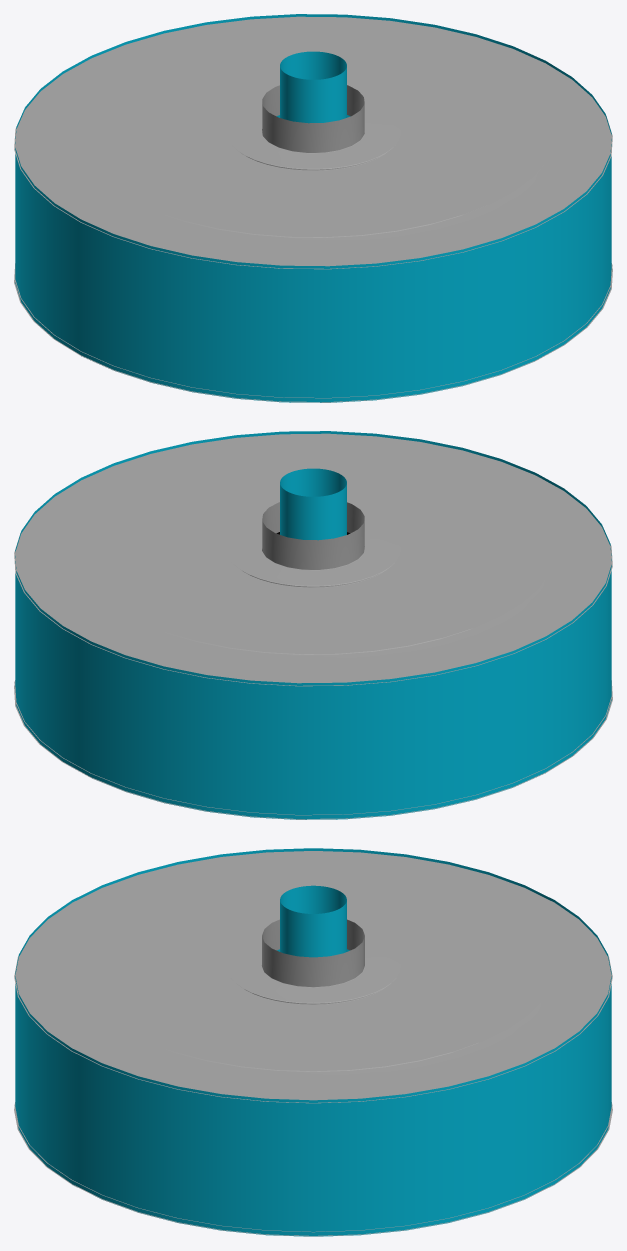
File: env_UV_ready_v04.fbx
3 renders of one model, top to bottom at view 1: azimuth 30°, elevation 25°; view 2: azimuth 150°, elevation 25°; view 3: azimuth 270°, elevation 25°, orthographic.
Visible parts, largest first — view 1: wall, celling_c, celling_b, celling_a, celling_d, center, floor, light_floor; view 2: wall, celling_c, celling_b, celling_a, celling_d, center, floor, light_floor; view 3: wall, celling_c, celling_b, celling_a, celling_d, center, floor, light_floor.
Boxes of the visible parts, x1,y1,x2,y2 form: wall: [15, 14, 611, 402]; celling_c: [73, 33, 553, 236]; celling_b: [34, 21, 592, 257]; celling_a: [14, 16, 612, 269]; celling_d: [225, 85, 401, 168]; center: [280, 51, 346, 123]; floor: [14, 263, 612, 402]; light_floor: [14, 263, 612, 398]; wall: [15, 431, 611, 819]; celling_c: [73, 450, 553, 653]; celling_b: [34, 438, 592, 674]; celling_a: [14, 433, 612, 686]; celling_d: [225, 502, 401, 585]; center: [280, 468, 346, 540]; floor: [14, 680, 612, 819]; light_floor: [14, 680, 612, 815]; wall: [15, 848, 611, 1236]; celling_c: [73, 867, 553, 1070]; celling_b: [34, 855, 592, 1091]; celling_a: [14, 851, 612, 1103]; celling_d: [225, 919, 401, 1002]; center: [280, 885, 346, 957]; floor: [14, 1107, 612, 1236]; light_floor: [14, 1102, 612, 1232].
Bounding box in the file's own units: 5059 × 1965 × 5059.
